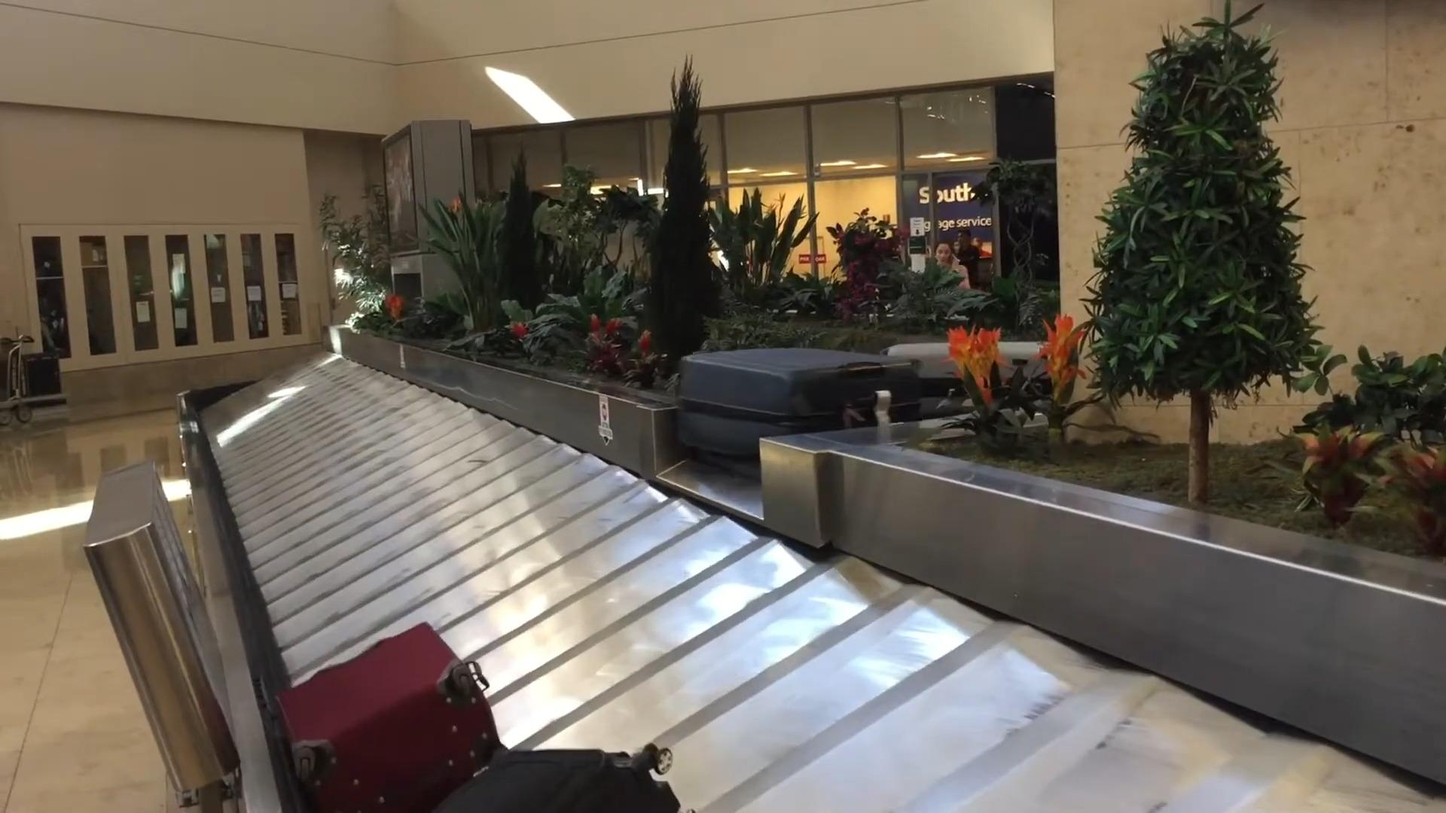luggage: (273, 622, 498, 813), (674, 342, 919, 468), (433, 744, 695, 813), (891, 334, 1057, 416)
